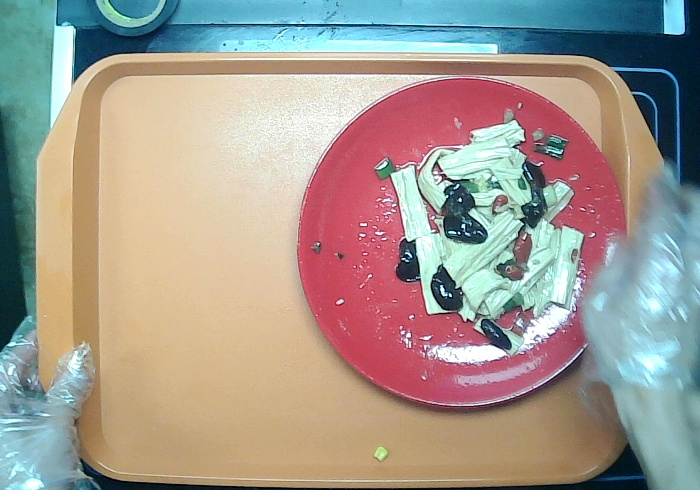HZYJPL-Hong_Se_Yuan_Pan: (296, 74, 631, 412)
